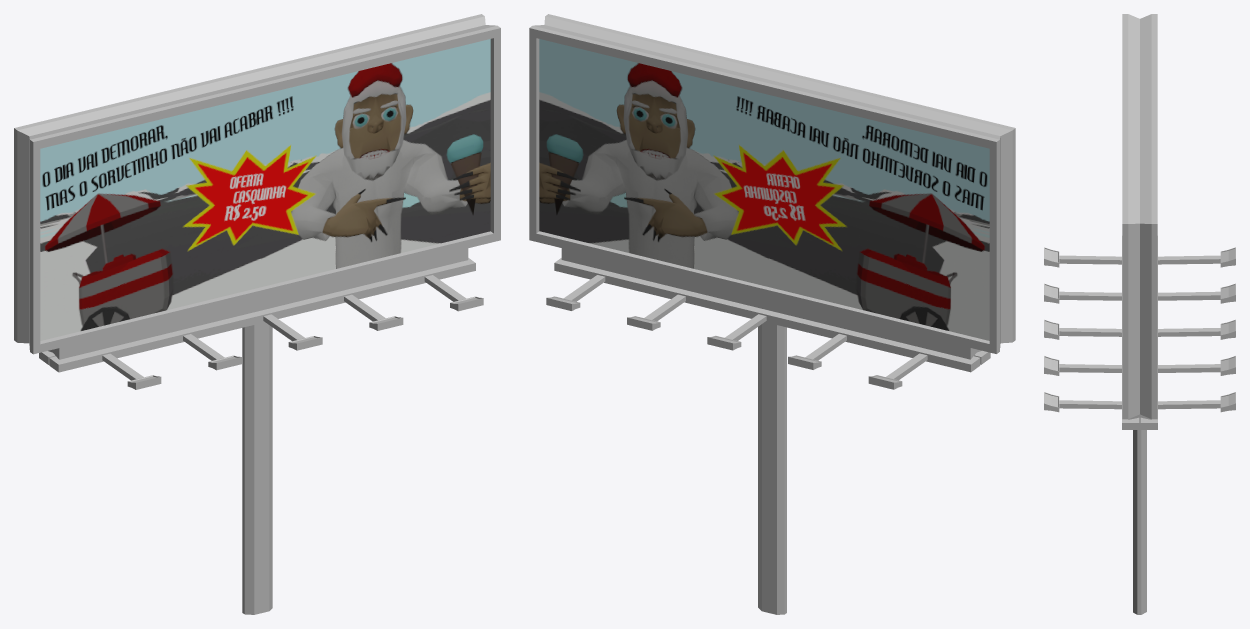
The model's file is Outdoor.fbx.
The picture shows the model from 3 angles, left to right: view 1: azimuth 30°, elevation 25°; view 2: azimuth 150°, elevation 25°; view 3: azimuth 270°, elevation 25°; orthographic projection. The views are drawn at different scales.
Visible parts, largest first — view 1: Cube, Cube.001; view 2: Cube, Cube.001; view 3: Cube, Cube.001.
Boxes of the visible parts, left/top/right/bottom form: Cube: left=14, top=14, right=500, bottom=389; Cube.001: left=242, top=322, right=272, bottom=614; Cube: left=529, top=14, right=1015, bottom=389; Cube.001: left=758, top=322, right=786, bottom=614; Cube: left=1044, top=14, right=1235, bottom=429; Cube.001: left=1133, top=417, right=1146, bottom=614.
Size of the model in its own units: 1160 by 1262 by 448.
